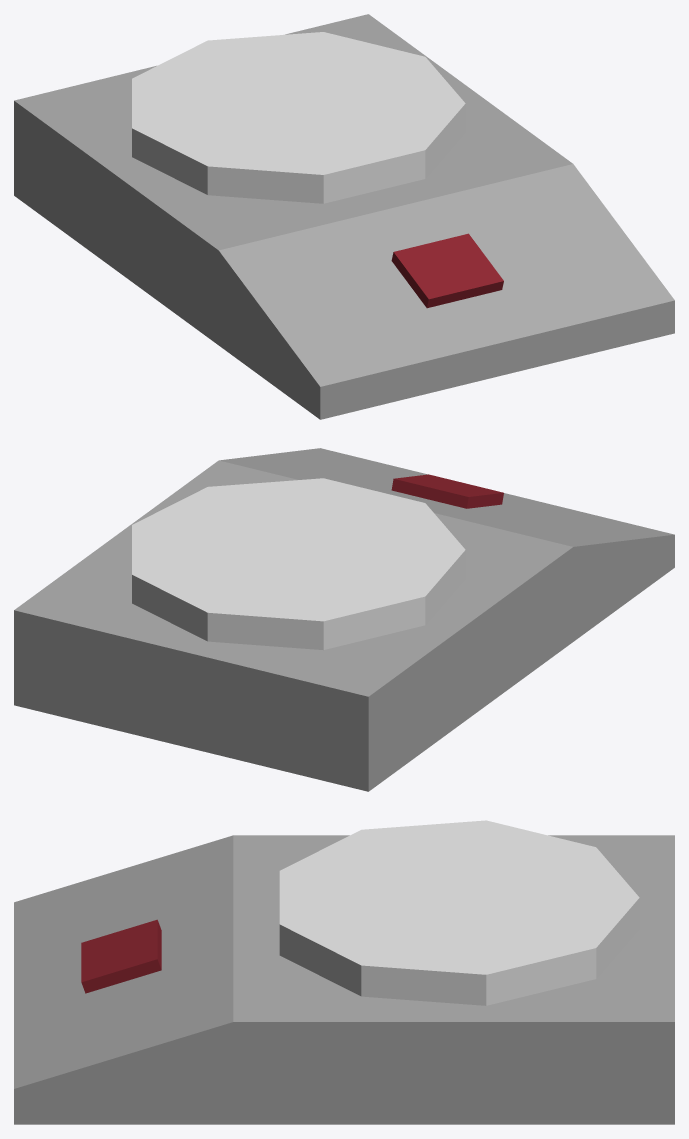
File: Mati.fbx
3 views of the same model, one above another, from view 1: azimuth 30°, elevation 25°; view 2: azimuth 150°, elevation 25°; view 3: azimuth 270°, elevation 25° (orthographic). The views are drawn at different scales.
Visible parts, largest first — view 1: Cube, Cylinder; view 2: Cube, Cylinder; view 3: Cube, Cylinder.
Boxes of the visible parts, x1,y1,x2,y2 form: Cube: (14,14,674,419); Cylinder: (132,32,465,203); Cube: (14,448,674,791); Cylinder: (132,478,465,650); Cube: (14,835,674,1124); Cylinder: (279,820,639,1005).
Bounding box in the file's own units: 200 × 66.75 × 299.
1 material, 1 textured.
